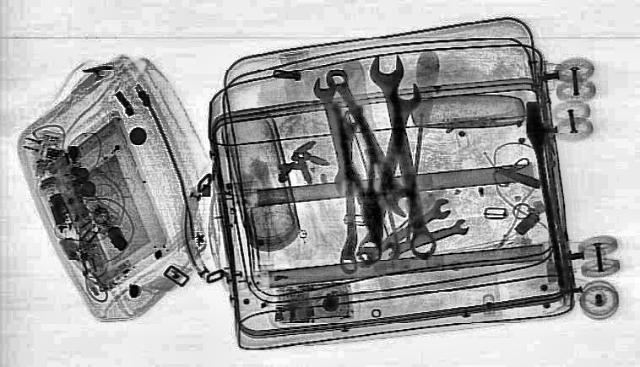Wrench: (311, 66, 429, 218), (364, 52, 442, 258), (350, 80, 424, 262), (338, 195, 464, 267), (311, 76, 357, 192), (372, 215, 478, 259), (338, 109, 362, 274)
